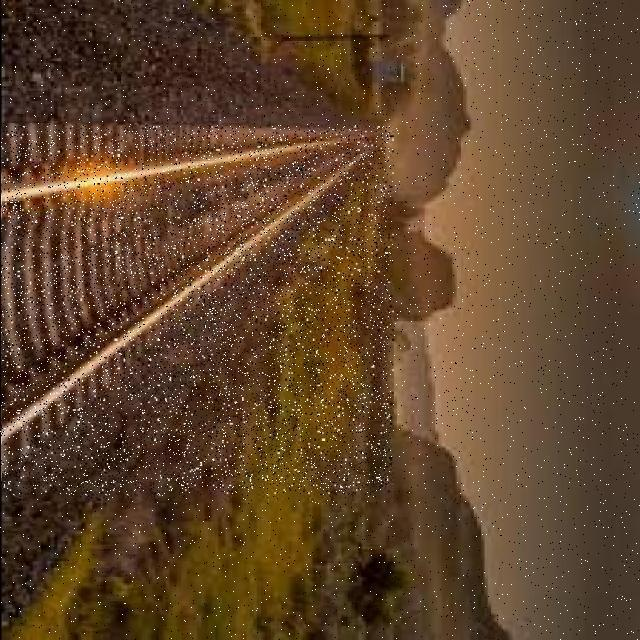rail: (2, 127, 392, 496)
